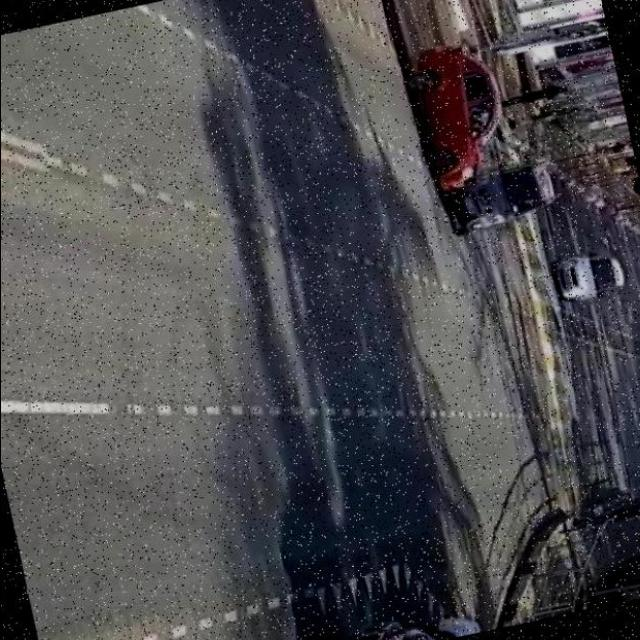accident: (433, 122, 531, 226)
